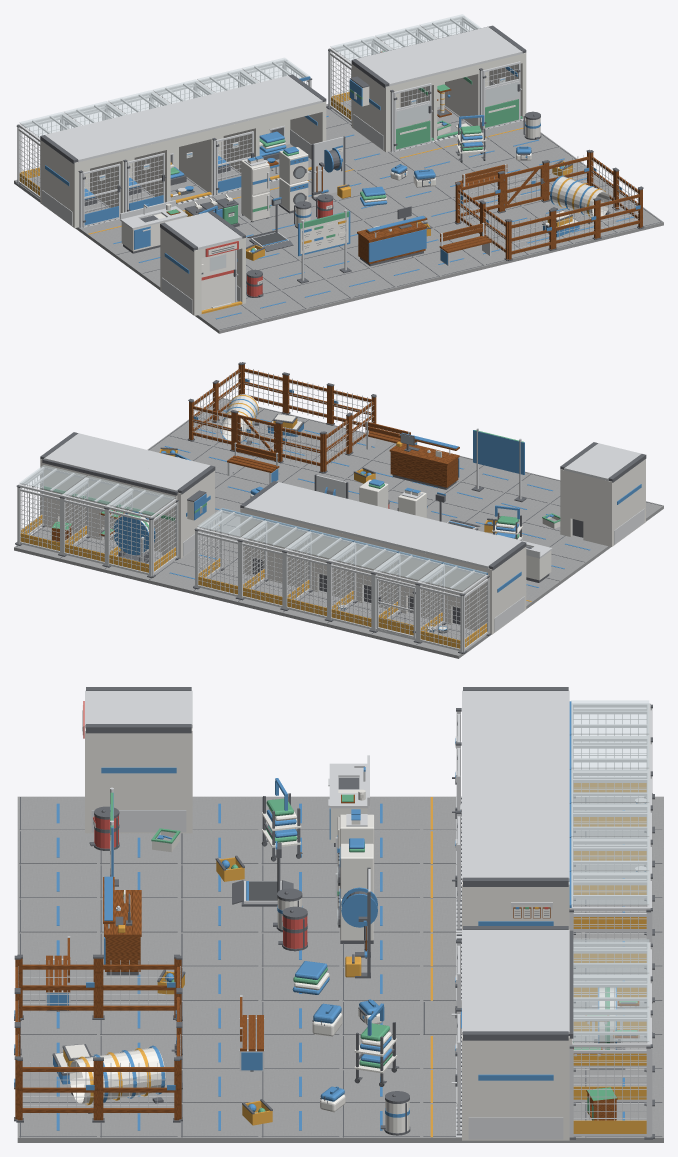
Rendered from boarding-kennels-and-cattery-boarding-ke-d2349ffd-starter-scene__35575.glb.
3 renders of one model, top to bottom at view 1: azimuth 30°, elevation 25°; view 2: azimuth 150°, elevation 25°; view 3: azimuth 270°, elevation 25°, orthographic. The views are drawn at different scales.
Visible parts, largest first — view 1: 126-boarding-kennels-and-cattery-cat-pen-door/pen-door-leaf/ (×3), 084-boarding-kennels-and-cattery-kennel-bay-module-wide/2, 127-boarding-kennels-and-cattery-cat-pen-door/pen-door-leaf/ (×3), 085-boarding-kennels-and-cattery-dividing-wall-panel/0, 164-boarding-kennels-and-cattery-dividing-wall-panel/0, 083-boarding-kennels-and-cattery-kennel-bay-module/0, 084-boarding-kennels-and-cattery-kennel-bay-module-wide/0, 082-boarding-kennels-and-cattery-kennel-bay-furnished/0, 081-boarding-kennels-and-cattery-kennel-bay-module/0, 082-boarding-kennels-and-cattery-kennel-bay-furnished/2, 123-boarding-kennels-and-cattery-cat-pen-module/0, 124-boarding-kennels-and-cattery-dividing-wall-panel/0 (+84 smaller); view 2: 163-boarding-kennels-and-cattery-isolation-pen-module/0, 084-boarding-kennels-and-cattery-kennel-bay-module-wide/0, 084-boarding-kennels-and-cattery-kennel-bay-module-wide/2, 168-boarding-kennels-and-cattery-reception-desk/1, 085-boarding-kennels-and-cattery-dividing-wall-panel/0, 080-boarding-kennels-and-cattery-kennel-bay-module/0, 164-boarding-kennels-and-cattery-dividing-wall-panel/0, 083-boarding-kennels-and-cattery-kennel-bay-module/0, 081-boarding-kennels-and-cattery-kennel-bay-module/0, 170-boarding-kennels-and-cattery-adoption-noticeboard/2, 132-boarding-kennels-and-cattery-cat-flap-panel/0, 082-boarding-kennels-and-cattery-kennel-bay-furnished/2 (+102 smaller); view 3: 125-boarding-kennels-and-cattery-dividing-wall-panel/0, 165-boarding-kennels-and-cattery-dividing-wall-panel/0, 084-boarding-kennels-and-cattery-kennel-bay-module-wide/2, 081-boarding-kennels-and-cattery-kennel-bay-module/2, 083-boarding-kennels-and-cattery-kennel-bay-module/2, 122-boarding-kennels-and-cattery-cat-pen-module/3, 123-boarding-kennels-and-cattery-cat-pen-module/3, 080-boarding-kennels-and-cattery-kennel-bay-module/2, 121-boarding-kennels-and-cattery-cat-pen-module/3, 082-boarding-kennels-and-cattery-kennel-bay-furnished/2, 163-boarding-kennels-and-cattery-isolation-pen-module/2, 086-boarding-kennels-and-cattery-dividing-wall-panel/0 (+124 smaller).
Boxes of the visible parts, x1,y1,x2,y2 form: 126-boarding-kennels-and-cattery-cat-pen-door/pen-door-leaf/ (×3): [393, 83, 432, 150]; 084-boarding-kennels-and-cattery-kennel-bay-module-wide/2: [222, 75, 322, 146]; 127-boarding-kennels-and-cattery-cat-pen-door/pen-door-leaf/ (×3): [482, 61, 521, 129]; 085-boarding-kennels-and-cattery-dividing-wall-panel/0: [40, 140, 78, 228]; 164-boarding-kennels-and-cattery-dividing-wall-panel/0: [160, 228, 197, 315]; 083-boarding-kennels-and-cattery-kennel-bay-module/0: [179, 119, 255, 194]; 084-boarding-kennels-and-cattery-kennel-bay-module-wide/0: [223, 102, 322, 172]; 082-boarding-kennels-and-cattery-kennel-bay-furnished/0: [134, 130, 211, 202]; 081-boarding-kennels-and-cattery-kennel-bay-module/0: [90, 140, 166, 213]; 082-boarding-kennels-and-cattery-kennel-bay-furnished/2: [133, 102, 211, 193]; 123-boarding-kennels-and-cattery-cat-pen-module/0: [445, 54, 522, 125]; 124-boarding-kennels-and-cattery-dividing-wall-panel/0: [351, 64, 389, 152]; 163-boarding-kennels-and-cattery-isolation-pen-module/0: [564, 470, 608, 545]; 084-boarding-kennels-and-cattery-kennel-bay-module-wide/0: [244, 509, 310, 587]; 084-boarding-kennels-and-cattery-kennel-bay-module-wide/2: [244, 482, 344, 525]; 168-boarding-kennels-and-cattery-reception-desk/1: [389, 434, 459, 487]; 085-boarding-kennels-and-cattery-dividing-wall-panel/0: [488, 546, 526, 634]; 080-boarding-kennels-and-cattery-kennel-bay-module/0: [444, 558, 488, 630]; 164-boarding-kennels-and-cattery-dividing-wall-panel/0: [608, 459, 645, 546]; 083-boarding-kennels-and-cattery-kennel-bay-module/0: [310, 525, 355, 597]; 081-boarding-kennels-and-cattery-kennel-bay-module/0: [399, 547, 443, 619]; 170-boarding-kennels-and-cattery-adoption-noticeboard/2: [473, 430, 524, 474]; 132-boarding-kennels-and-cattery-cat-flap-panel/0: [43, 463, 87, 533]; 082-boarding-kennels-and-cattery-kennel-bay-furnished/2: [355, 509, 433, 601]; 125-boarding-kennels-and-cattery-dividing-wall-panel/0: [462, 1035, 569, 1140]; 165-boarding-kennels-and-cattery-dividing-wall-panel/0: [85, 728, 192, 833]; 084-boarding-kennels-and-cattery-kennel-bay-module-wide/2: [462, 827, 569, 881]; 081-boarding-kennels-and-cattery-kennel-bay-module/2: [462, 724, 569, 758]; 083-boarding-kennels-and-cattery-kennel-bay-module/2: [462, 793, 569, 827]; 122-boarding-kennels-and-cattery-cat-pen-module/3: [462, 963, 569, 997]; 123-boarding-kennels-and-cattery-cat-pen-module/3: [462, 998, 569, 1035]; 080-boarding-kennels-and-cattery-kennel-bay-module/2: [462, 690, 569, 724]; 121-boarding-kennels-and-cattery-cat-pen-module/3: [462, 929, 569, 963]; 082-boarding-kennels-and-cattery-kennel-bay-furnished/2: [462, 759, 569, 792]; 163-boarding-kennels-and-cattery-isolation-pen-module/2: [85, 690, 192, 728]; 086-boarding-kennels-and-cattery-dividing-wall-panel/0: [462, 882, 569, 929].
Bounding box in the file's own units: 15.28 × 2.28 × 12.07.
12 materials, 2 textured.
